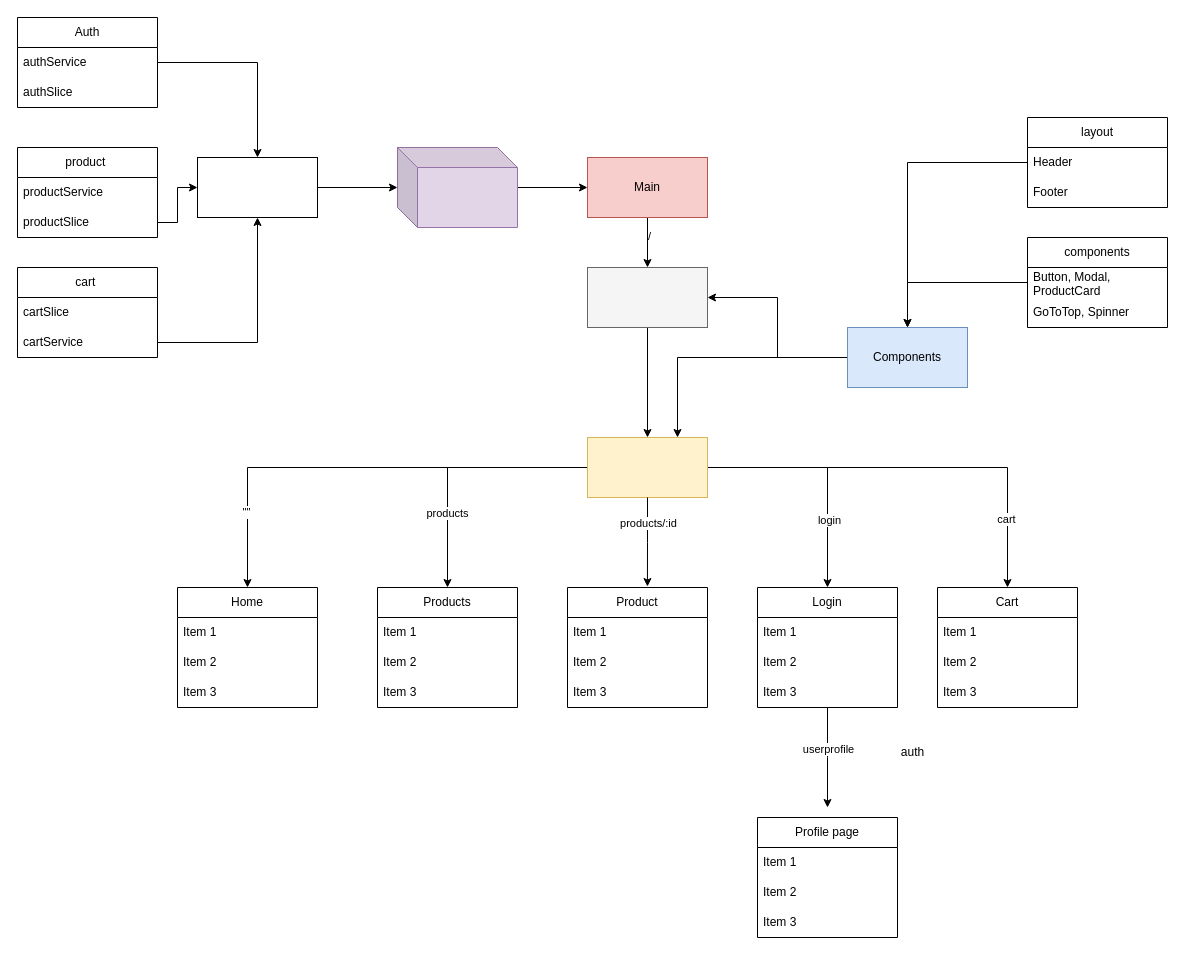
Image size: 1185x955. Some labels were removed from this diagram. The centre of each missing label's shape, as x and y in pixels:
"App" goes at pixel 647 297.
"Features" goes at pixel 257 187.
"Pages" goes at pixel 647 467.
"Redux store" goes at pixel 457 187.
